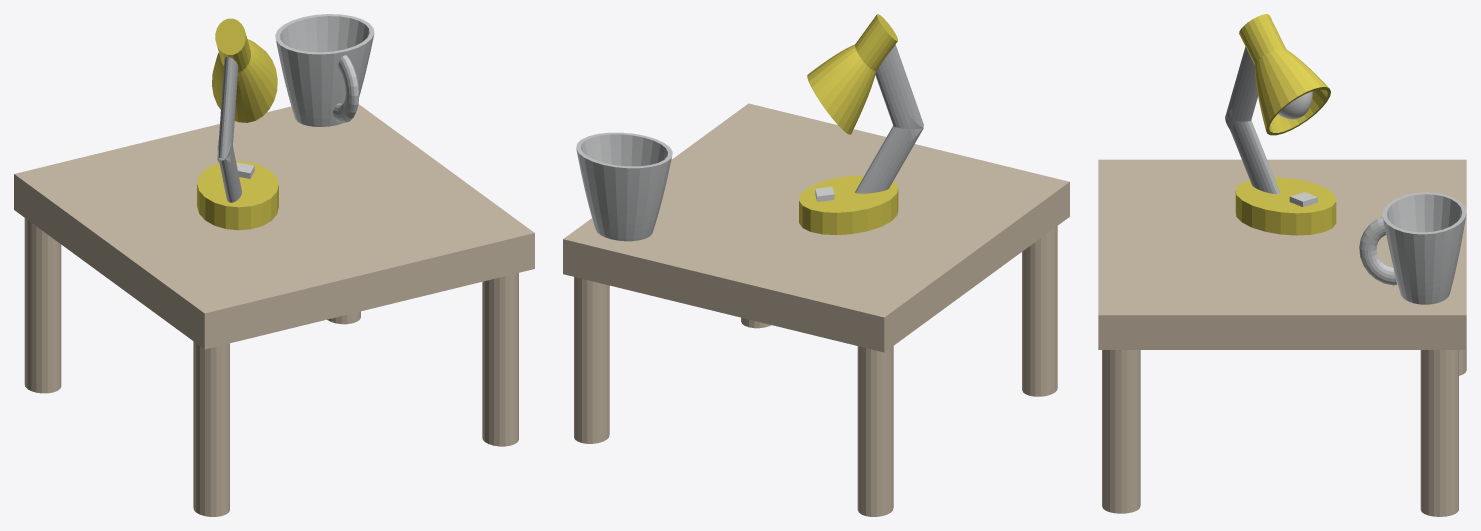
Rendered from CoffeeTableModel.glb.
3 renders of one model, left to right at view 1: azimuth 30°, elevation 25°; view 2: azimuth 150°, elevation 25°; view 3: azimuth 270°, elevation 25°, orthographic. The views are drawn at different scales.
Visible parts, largest first — view 1: Mesh_Mesh_head_geo.001_lambert2SG.001; view 2: Mesh_Mesh_head_geo.001_lambert2SG.001; view 3: Mesh_Mesh_head_geo.001_lambert2SG.001.
Boxes of the visible parts, x1,y1,x2,y2 form: Mesh_Mesh_head_geo.001_lambert2SG.001: (14,14,534,516); Mesh_Mesh_head_geo.001_lambert2SG.001: (563,14,1069,516); Mesh_Mesh_head_geo.001_lambert2SG.001: (1098,14,1466,516).
Size of the model in its own units: 97 by 115 by 96.
